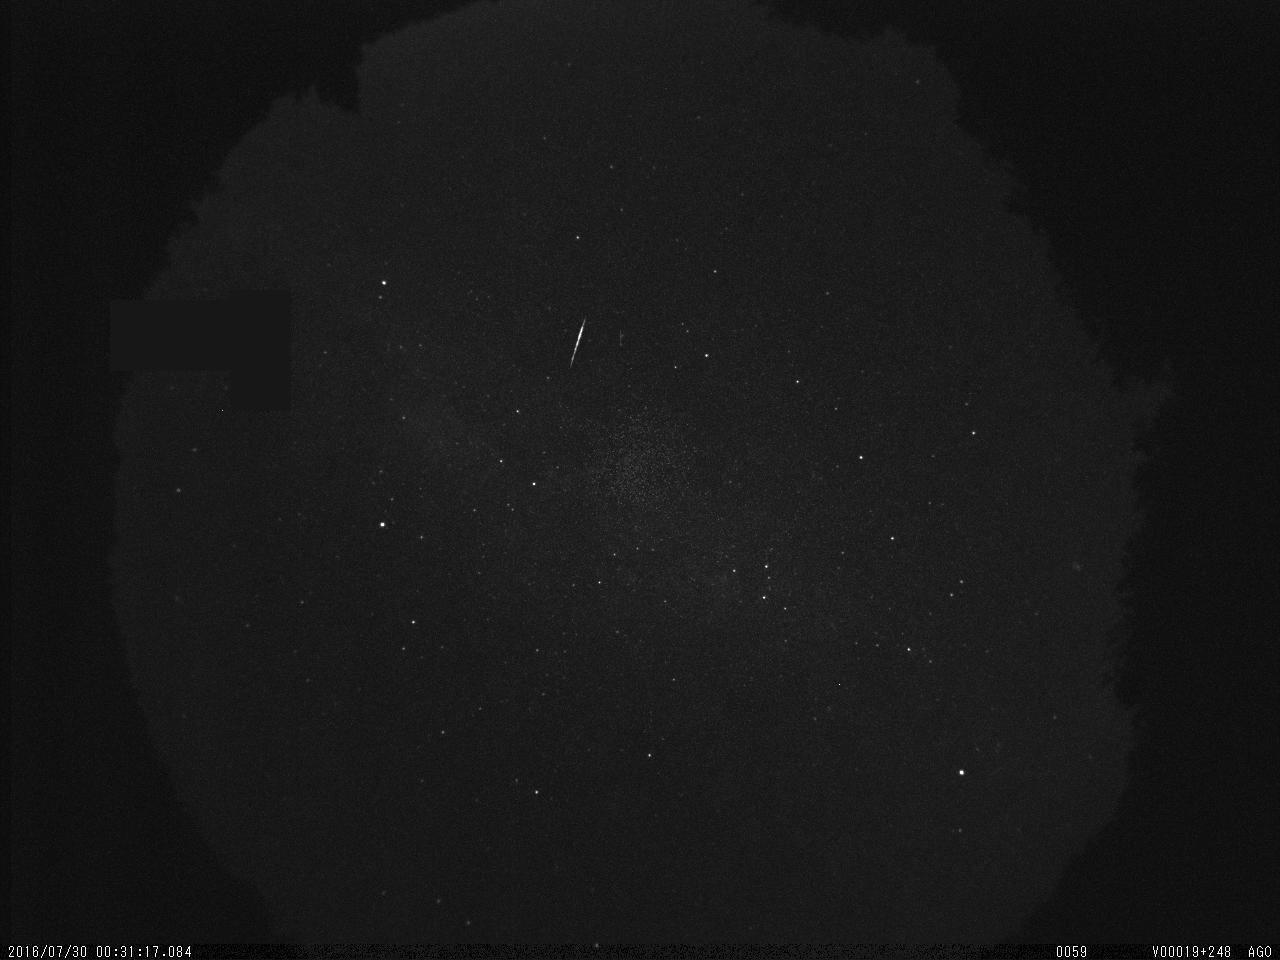meteor: (560, 315, 593, 374)
